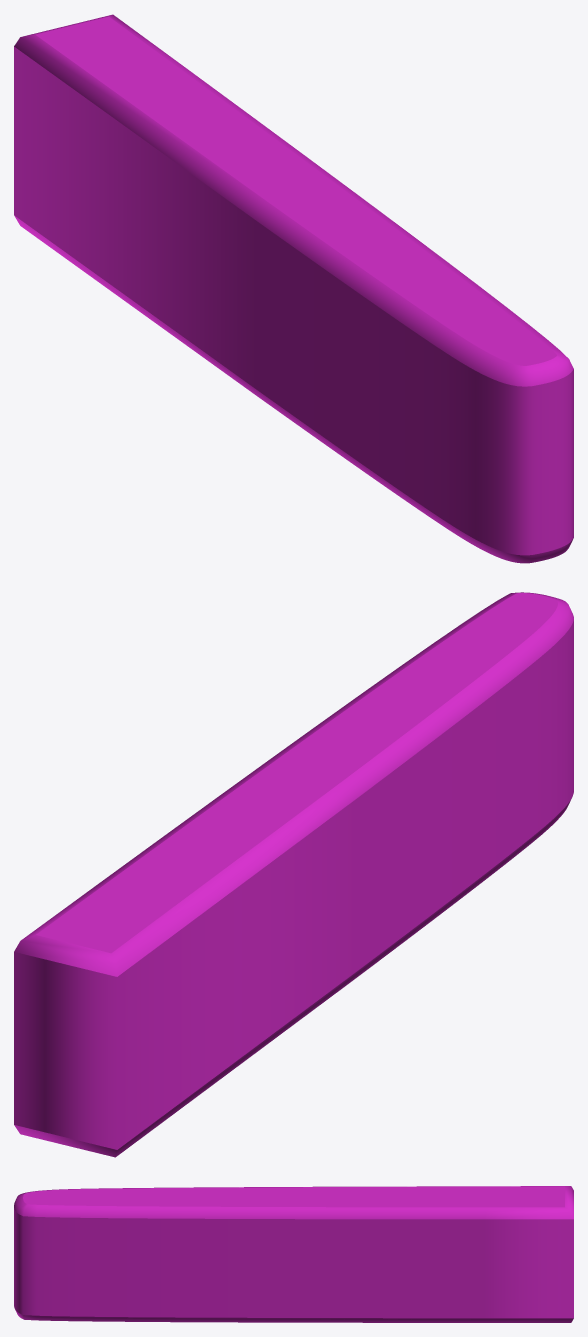
The model's file is Blocky_LetterI.fbx.
3 views of the same model, one above another, from view 1: azimuth 30°, elevation 25°; view 2: azimuth 150°, elevation 25°; view 3: azimuth 270°, elevation 25° (orthographic). The views are drawn at different scales.
Parts seen in each view (by area): view 1: BlockyLetter_I; view 2: BlockyLetter_I; view 3: BlockyLetter_I.
Boxes of the visible parts, bbox=[...] form: BlockyLetter_I: bbox=[14, 14, 573, 563]; BlockyLetter_I: bbox=[14, 592, 573, 1157]; BlockyLetter_I: bbox=[14, 1186, 573, 1322].
Bounding box in the file's own units: 0.075 × 0.14 × 0.6163.
